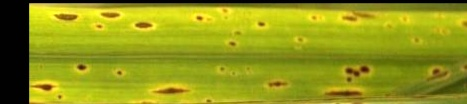Bacterial_Leaf_Blight: (332, 59, 377, 84), (30, 75, 66, 101), (150, 83, 197, 100), (50, 4, 81, 24), (430, 60, 449, 92), (324, 86, 366, 99), (261, 76, 301, 88), (129, 18, 157, 35), (305, 9, 325, 32), (216, 59, 234, 80), (336, 5, 354, 23), (290, 33, 311, 48), (215, 4, 233, 21), (113, 62, 125, 85), (76, 57, 92, 74), (225, 35, 240, 51), (412, 34, 424, 53), (381, 19, 397, 33), (100, 11, 124, 20), (256, 17, 268, 31), (195, 12, 206, 25)
